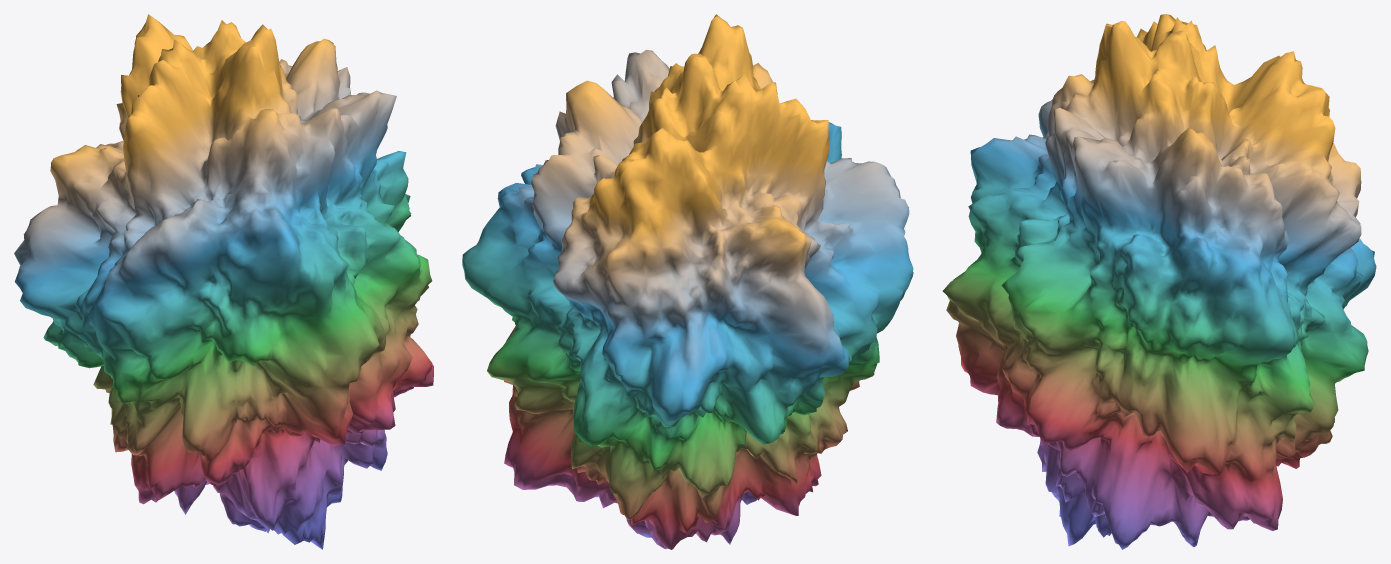
Rendered from 3D_icon.glb.
3 renders of one model, left to right at view 1: azimuth 30°, elevation 25°; view 2: azimuth 150°, elevation 25°; view 3: azimuth 270°, elevation 25°, orthographic.
Visible parts, largest first — view 1: Icosphere; view 2: Icosphere; view 3: Icosphere.
Boxes of the visible parts, x1=… form: Icosphere: x1=14, y1=14, x2=433, y2=549; Icosphere: x1=462, y1=14, x2=913, y2=549; Icosphere: x1=942, y1=14, x2=1376, y2=549.
Size of the model in its own units: 3.11 by 4.12 by 3.18.
1 material, 1 textured.
